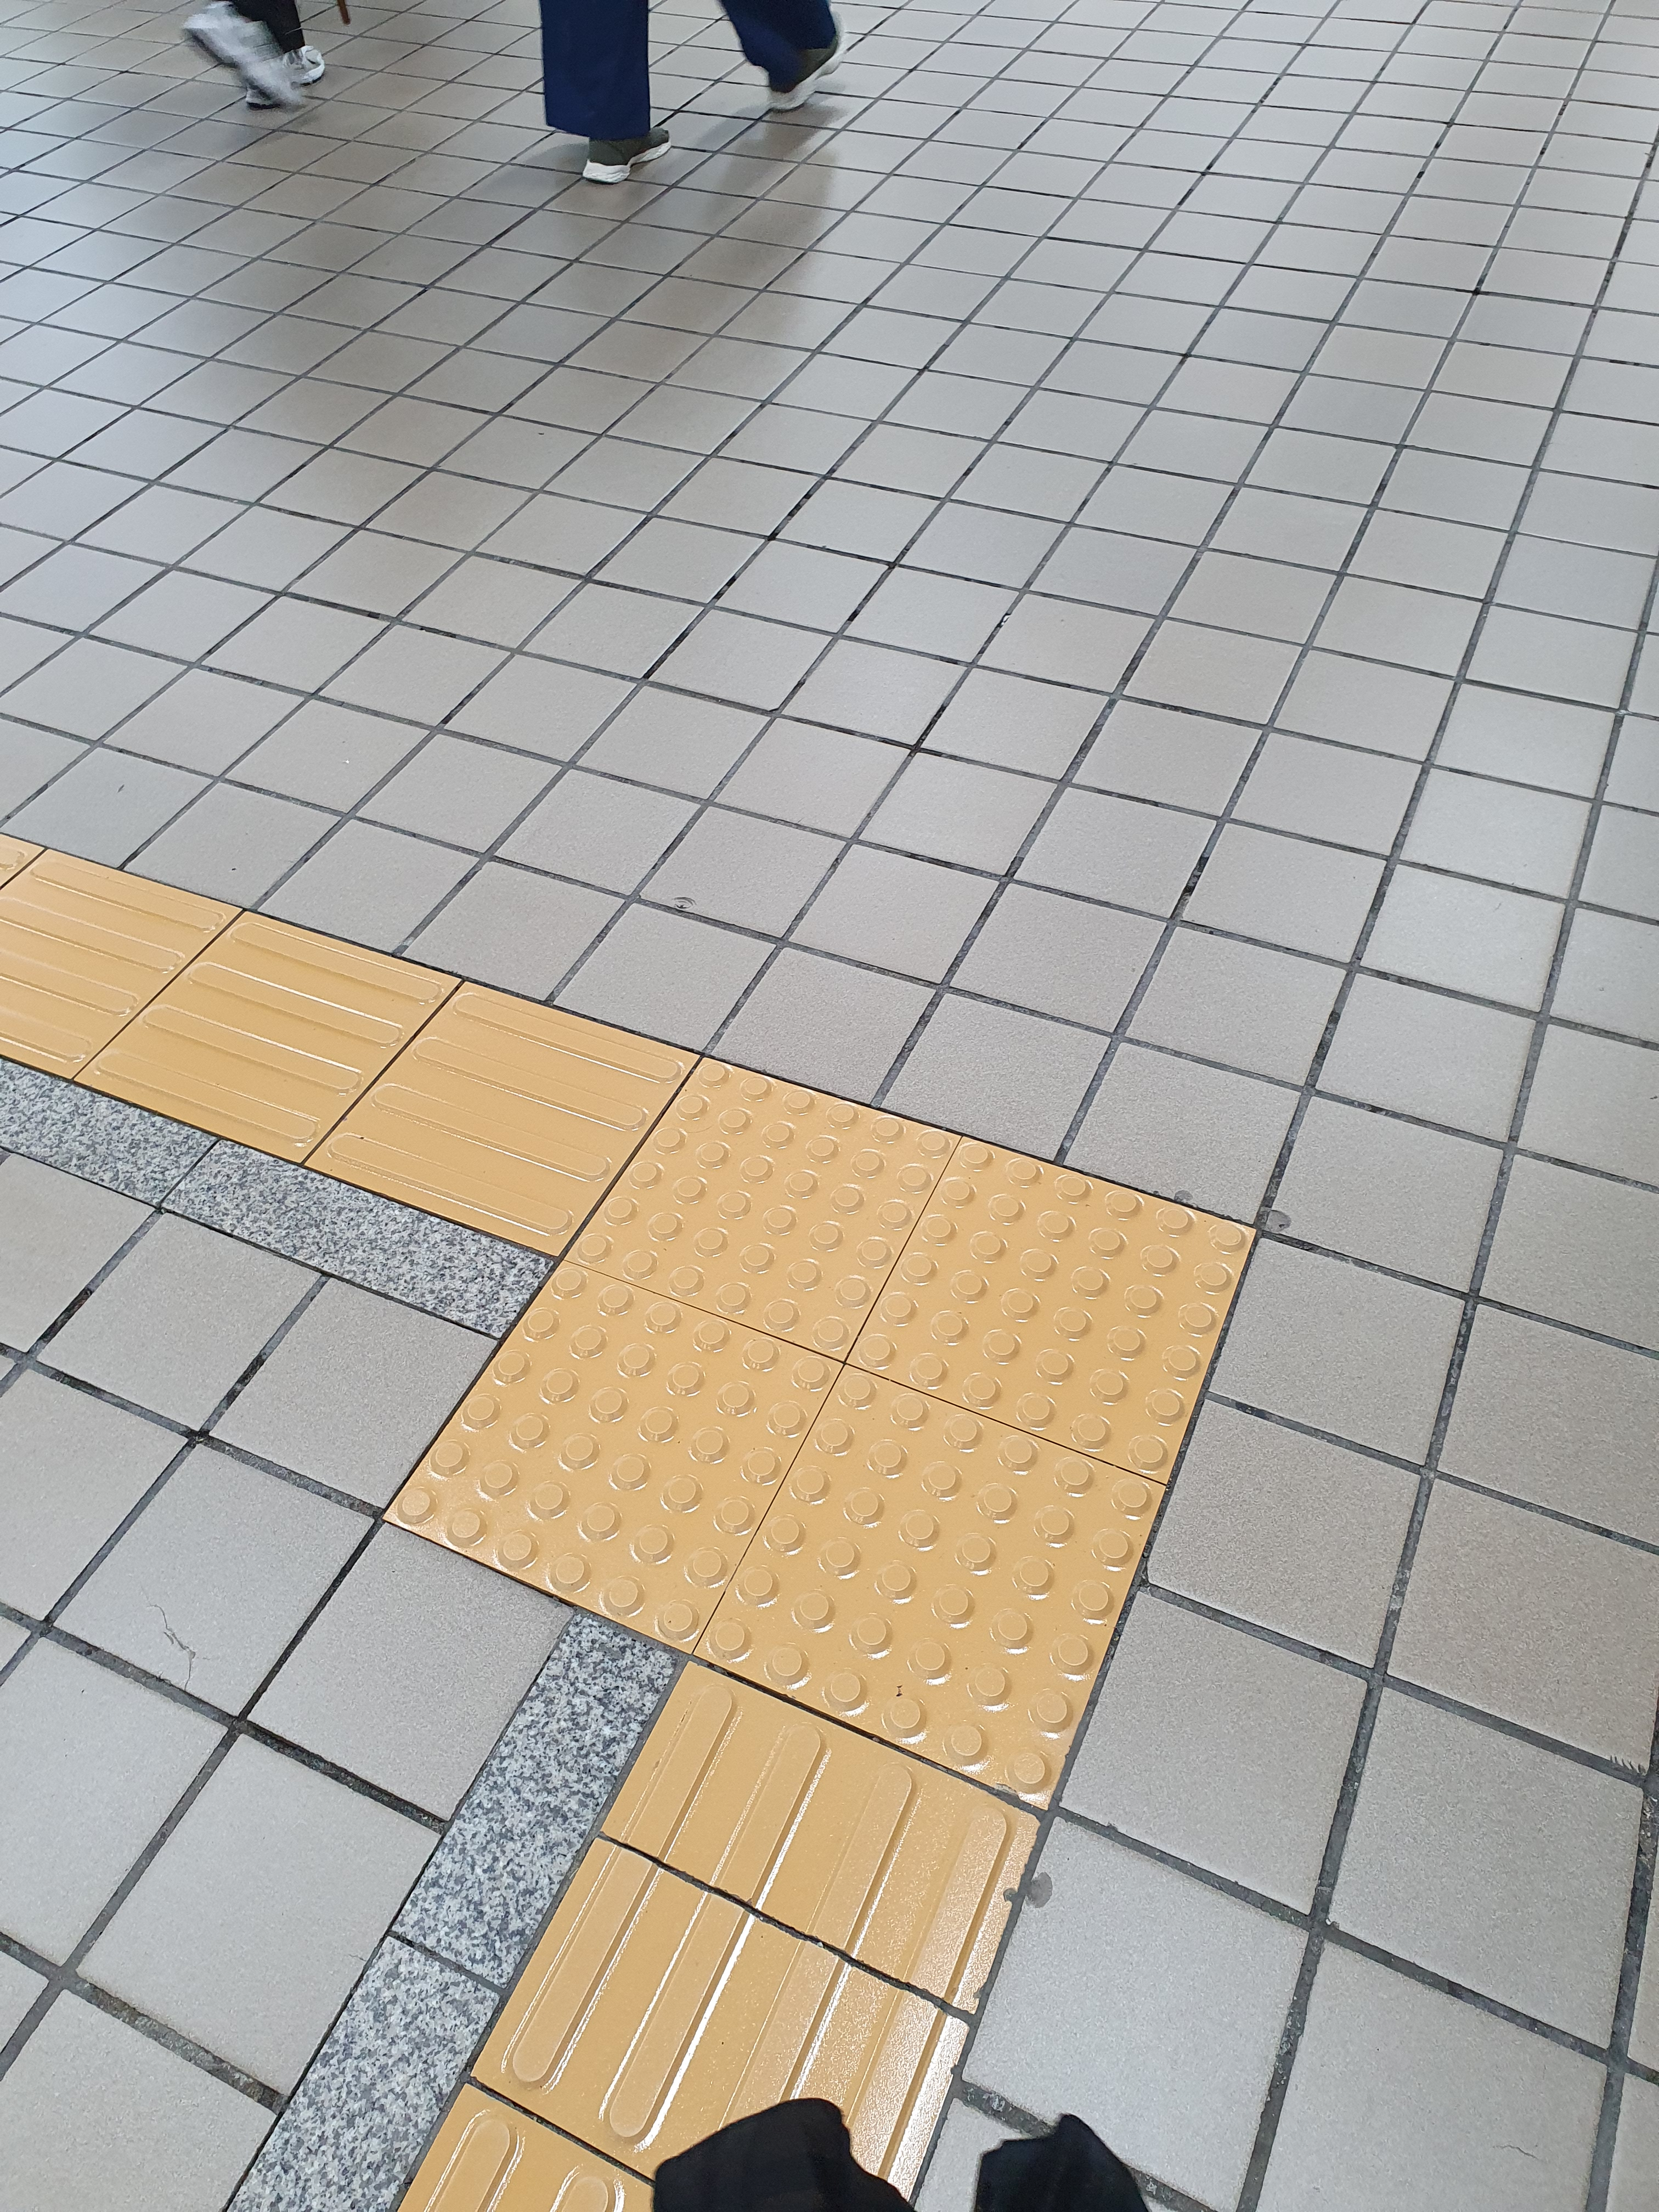guideBlock: (610, 1714, 985, 2203), (98, 911, 429, 1144), (383, 953, 643, 1249)
warningBlock: (765, 1334, 1094, 1707), (526, 1275, 823, 1609), (906, 1120, 1180, 1475), (648, 1055, 929, 1372)
